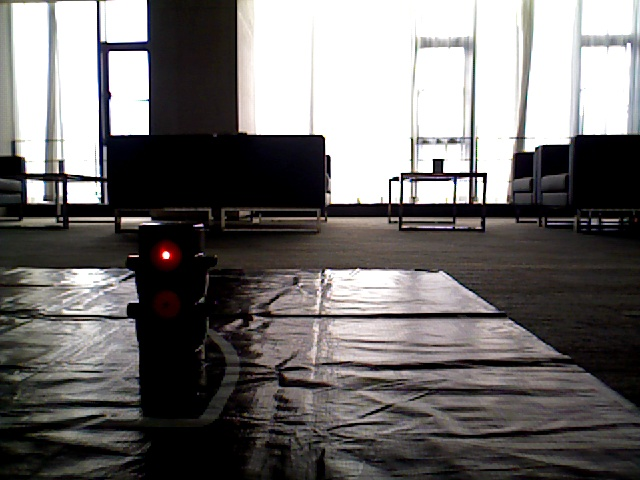red: (135, 227, 199, 343)
